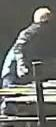gloves: (15, 54, 28, 78)
helmet: (33, 6, 52, 24)
vest: (3, 24, 46, 87)
